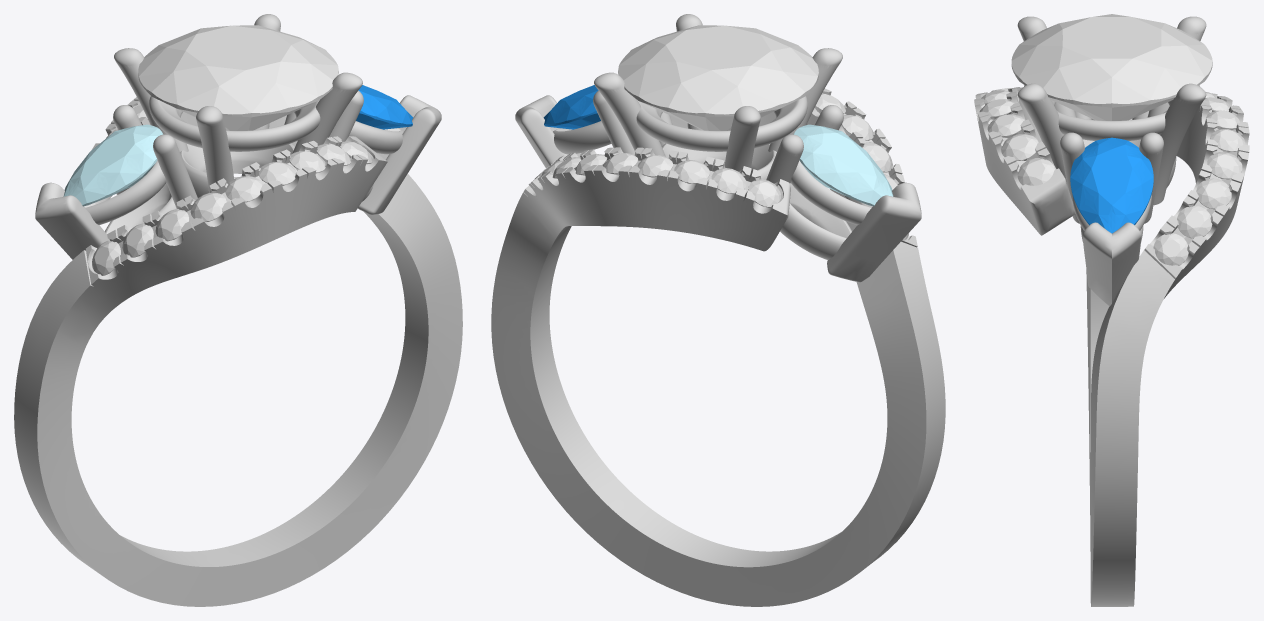
File: JamesPTpearv2_blender.glb
3 views of the same model, side by side, from view 1: azimuth 30°, elevation 25°; view 2: azimuth 150°, elevation 25°; view 3: azimuth 270°, elevation 25° (orthographic).
Visible parts, largest first — view 1: James PT pear for 3d model, James dia for 3d model.018, James aquamarine pear for 3d model, James sapph pear for 3d model, James dia for 3d model.012, James dia for 3d model.011, James dia for 3d model.013, James dia for 3d model.010, James dia for 3d model.009, James dia for 3d model.014; view 2: James PT pear for 3d model, James dia for 3d model.018, James aquamarine pear for 3d model, James sapph pear for 3d model, James dia for 3d model, James dia for 3d model.001, James dia for 3d model.002; view 3: James PT pear for 3d model, James dia for 3d model.018, James sapph pear for 3d model, James dia for 3d model.007, James dia for 3d model.008, James dia for 3d model.006, James dia for 3d model.017, James dia for 3d model.016, James dia for 3d model.005, James dia for 3d model.015, James dia for 3d model.004, James dia for 3d model.003 (+1 smaller).
Part boxes in pixels (<box>): James PT pear for 3d model: <box>14,14,462,606</box>; James dia for 3d model.018: <box>138,25,338,130</box>; James aquamarine pear for 3d model: <box>63,124,163,206</box>; James sapph pear for 3d model: <box>356,85,413,129</box>; James dia for 3d model.012: <box>190,192,226,221</box>; James dia for 3d model.011: <box>155,209,189,241</box>; James dia for 3d model.013: <box>225,176,262,202</box>; James dia for 3d model.010: <box>122,223,153,257</box>; James dia for 3d model.009: <box>92,240,120,275</box>; James dia for 3d model.014: <box>258,161,296,185</box>; James PT pear for 3d model: <box>491,14,945,606</box>; James dia for 3d model.018: <box>618,25,818,130</box>; James aquamarine pear for 3d model: <box>793,124,893,206</box>; James sapph pear for 3d model: <box>543,85,600,129</box>; James dia for 3d model: <box>748,179,780,207</box>; James dia for 3d model.001: <box>711,168,746,193</box>; James dia for 3d model.002: <box>674,160,709,183</box>; James PT pear for 3d model: <box>974,16,1249,606</box>; James dia for 3d model.018: <box>1011,14,1212,120</box>; James sapph pear for 3d model: <box>1070,137,1153,233</box>; James dia for 3d model.007: <box>1177,205,1212,238</box>; James dia for 3d model.008: <box>1153,233,1188,265</box>; James dia for 3d model.006: <box>1196,178,1231,209</box>; James dia for 3d model.017: <box>1017,158,1054,185</box>; James dia for 3d model.016: <box>1001,134,1038,160</box>; James dia for 3d model.005: <box>1207,152,1242,179</box>; James dia for 3d model.015: <box>987,114,1024,138</box>; James dia for 3d model.004: <box>1210,129,1245,152</box>; James dia for 3d model.003: <box>1206,110,1241,130</box>.
Size of the model in its own units: 21 by 25.31 by 11.59.
